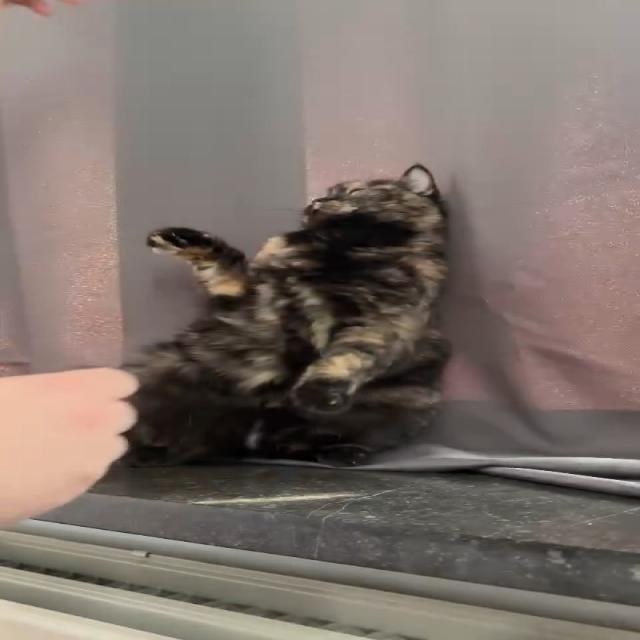authorized: (116, 162, 453, 468)
